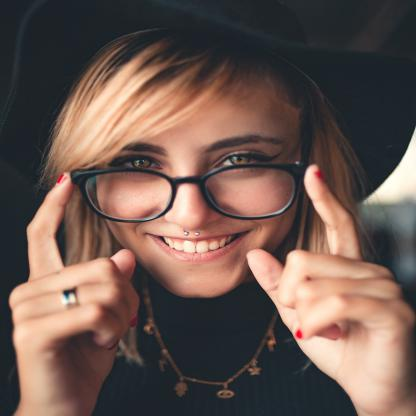Eye: (208, 146, 282, 173), (116, 151, 172, 181)
Mouth: (138, 231, 257, 264)
Nose: (158, 178, 227, 228)
